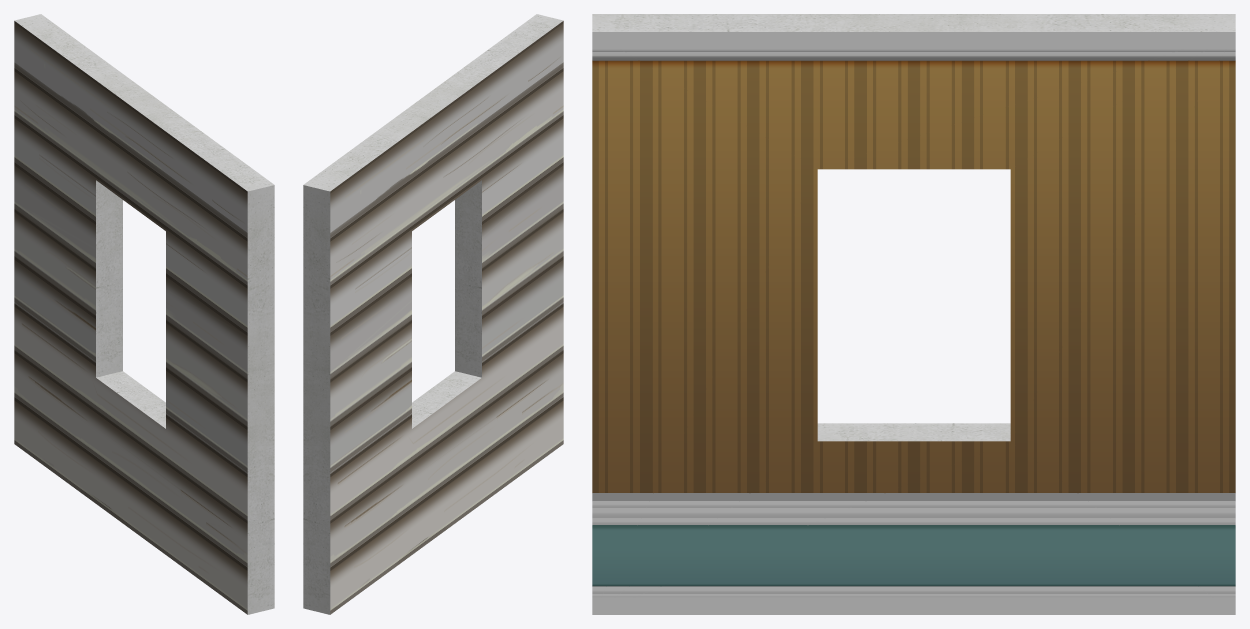
The model's file is wall01_window1m_A.fbx.
The picture shows the model from 3 angles, left to right: view 1: azimuth 30°, elevation 25°; view 2: azimuth 150°, elevation 25°; view 3: azimuth 270°, elevation 25°; orthographic projection. The views are drawn at different scales.
Visible parts, largest first — view 1: wall01_window1m_A; view 2: wall01_window1m_A; view 3: wall01_window1m_A.
Part boxes in pixels (x1=…): wall01_window1m_A: x1=14, y1=14, x2=274, y2=614; wall01_window1m_A: x1=303, y1=14, x2=563, y2=614; wall01_window1m_A: x1=592, y1=14, x2=1235, y2=614.
Bounding box in the file's own units: 20 × 300 × 300.
